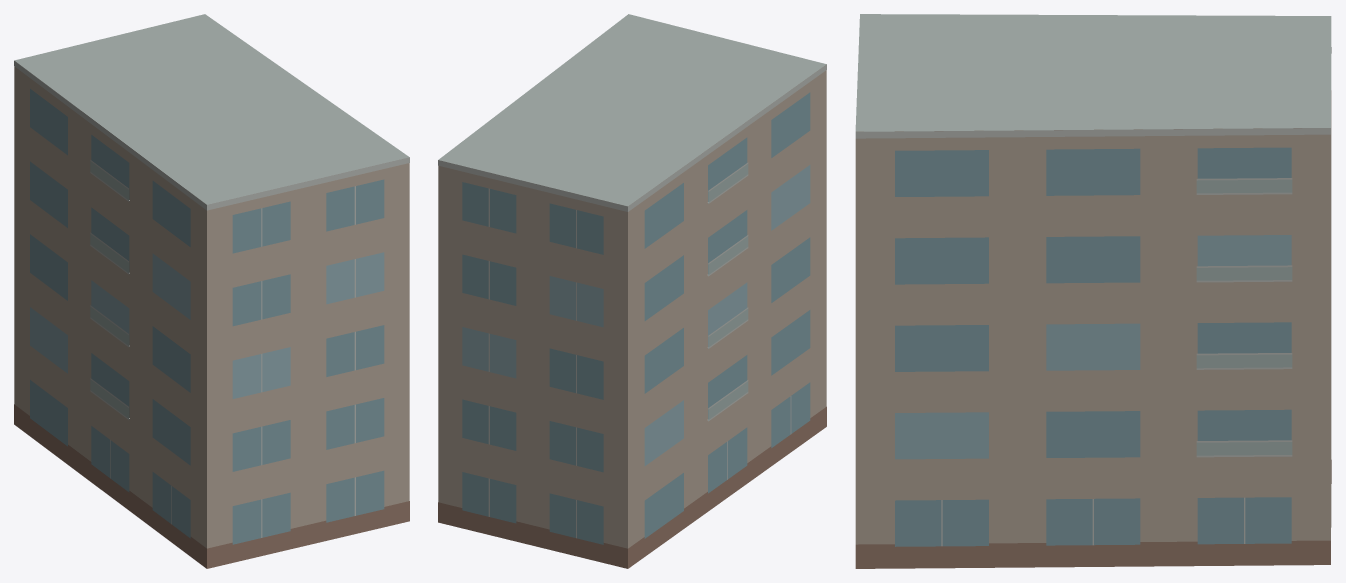
Rendered from survey-upis-32879811.glb.
3 views of the same model, side by side, from view 1: azimuth 30°, elevation 25°; view 2: azimuth 150°, elevation 25°; view 3: azimuth 270°, elevation 25° (orthographic). The views are drawn at different scales.
Visible parts, largest first — view 1: survey-upis-32879811.tmp; view 2: survey-upis-32879811.tmp; view 3: survey-upis-32879811.tmp.
Boxes of the visible parts, x1,y1,x2,y2 form: survey-upis-32879811.tmp: (14,14,409,568); survey-upis-32879811.tmp: (438,14,826,568); survey-upis-32879811.tmp: (855,14,1331,568).
Bounding box in the file's own units: 9.08 × 15.7 × 15.5.
